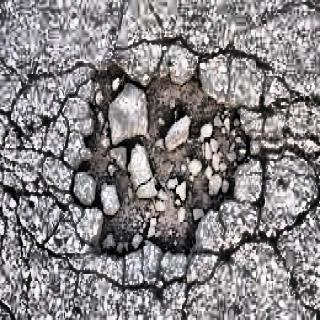alligator-crack: (5, 35, 320, 298)
pothole: (76, 66, 242, 263)
